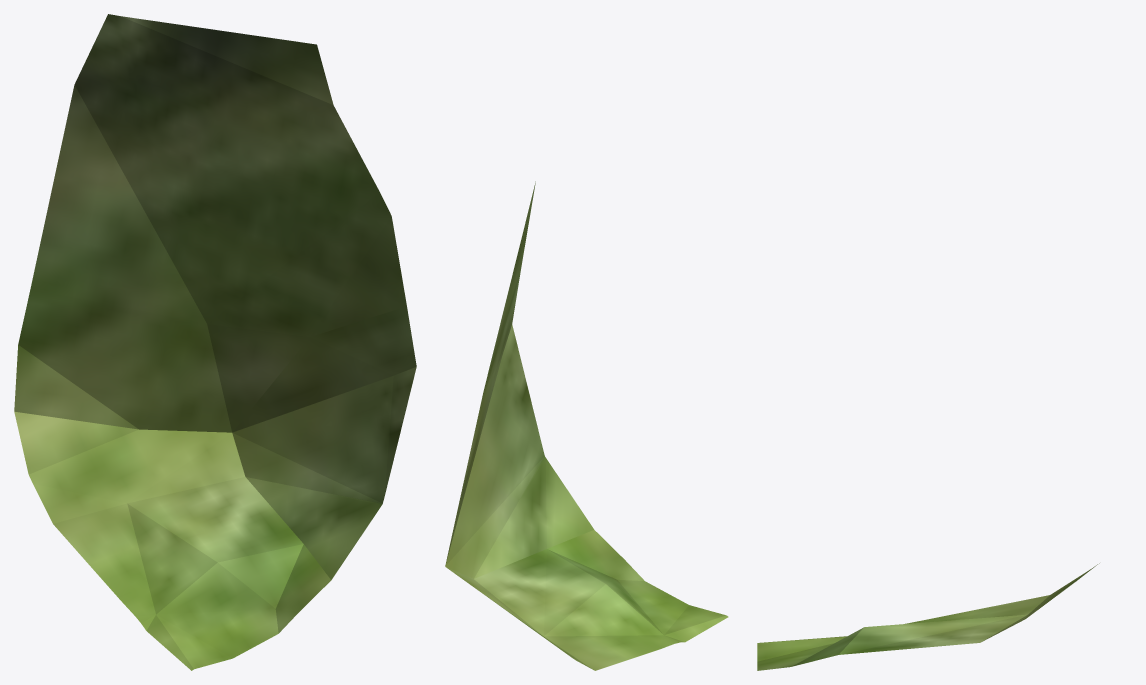
3 renders of one model, left to right at view 1: azimuth 30°, elevation 25°; view 2: azimuth 150°, elevation 25°; view 3: azimuth 270°, elevation 25°, orthographic. The views are drawn at different scales.
Bounding box in the file's own units: 2.62 × 6.63 × 3.58.
1 material, 1 textured.
